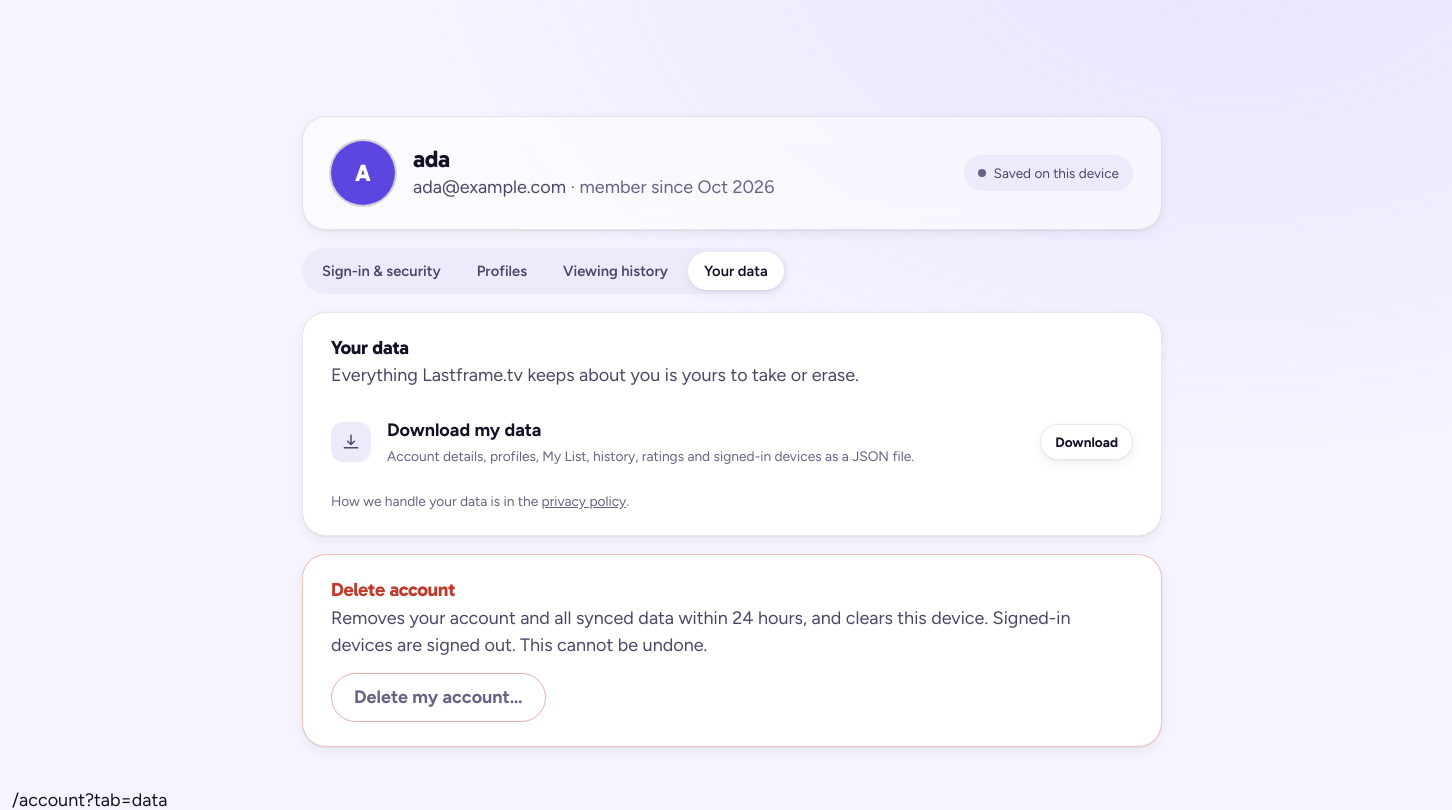
AccountPage: signed in › keeps local data when server deletion fails
Click the button "Delete my account…".
click(438, 697)  # box [331, 673, 546, 722]
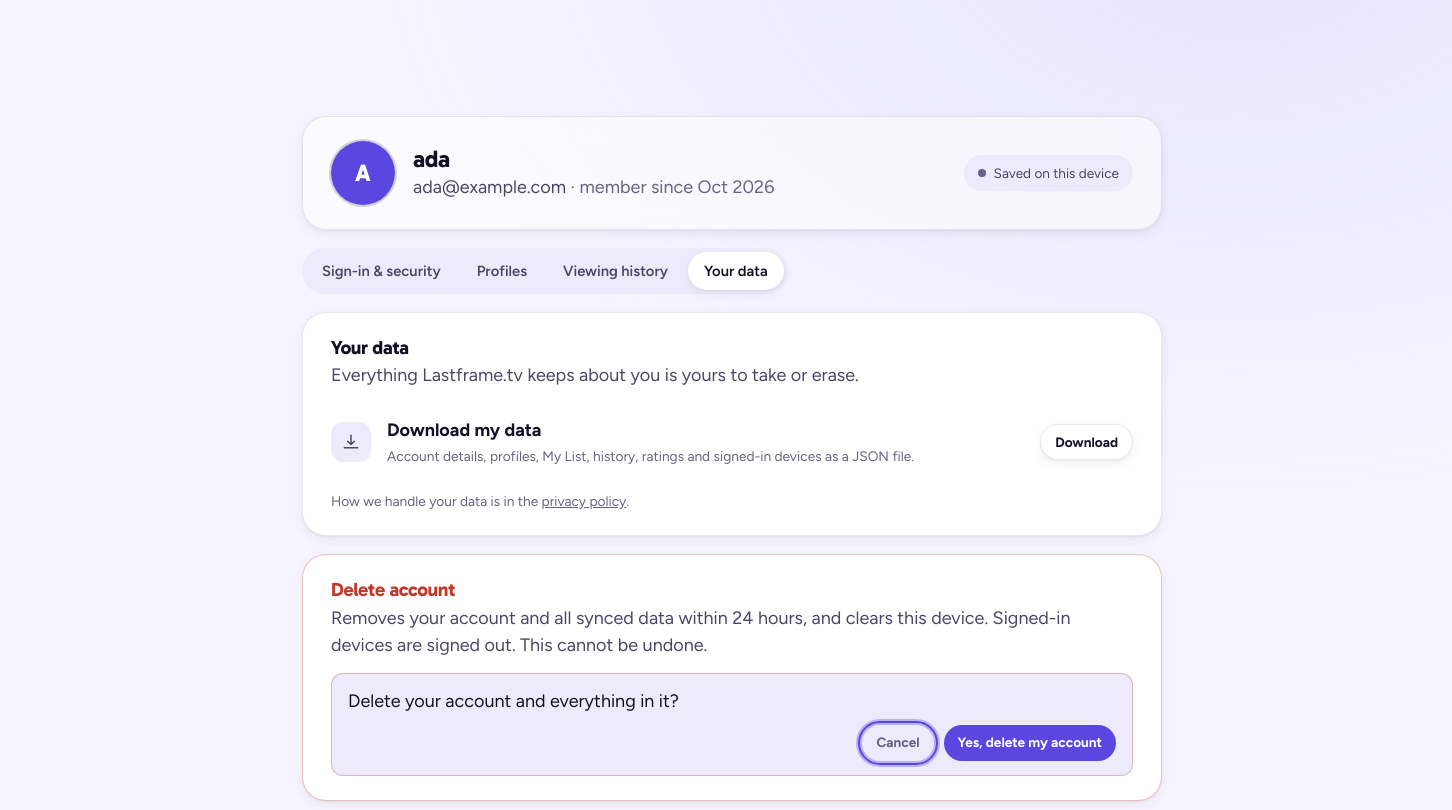
Click the button "Yes, delete my account".
click(1030, 743)  # box [944, 725, 1116, 761]
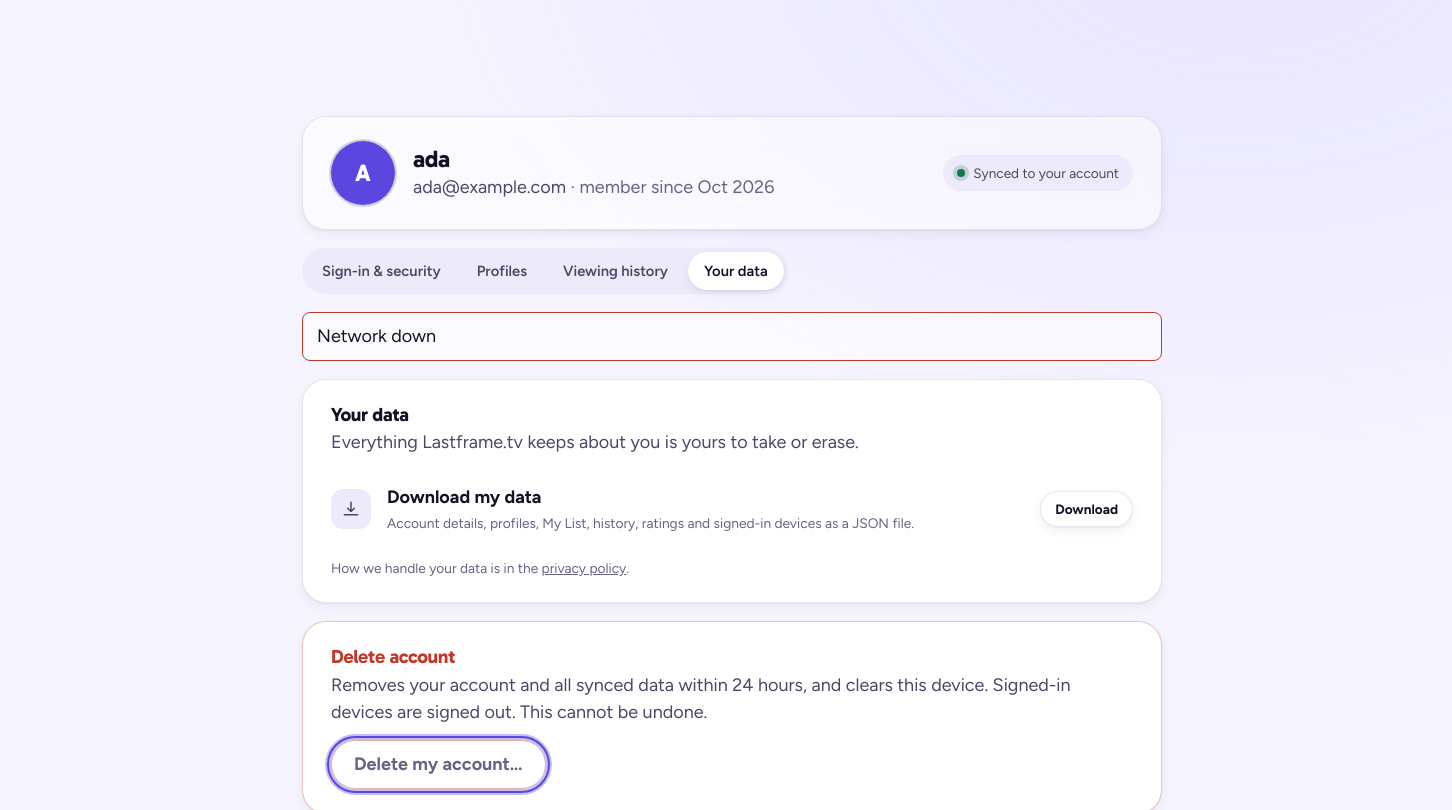
Check: the message reads "Network down", box [317, 325, 436, 347]
